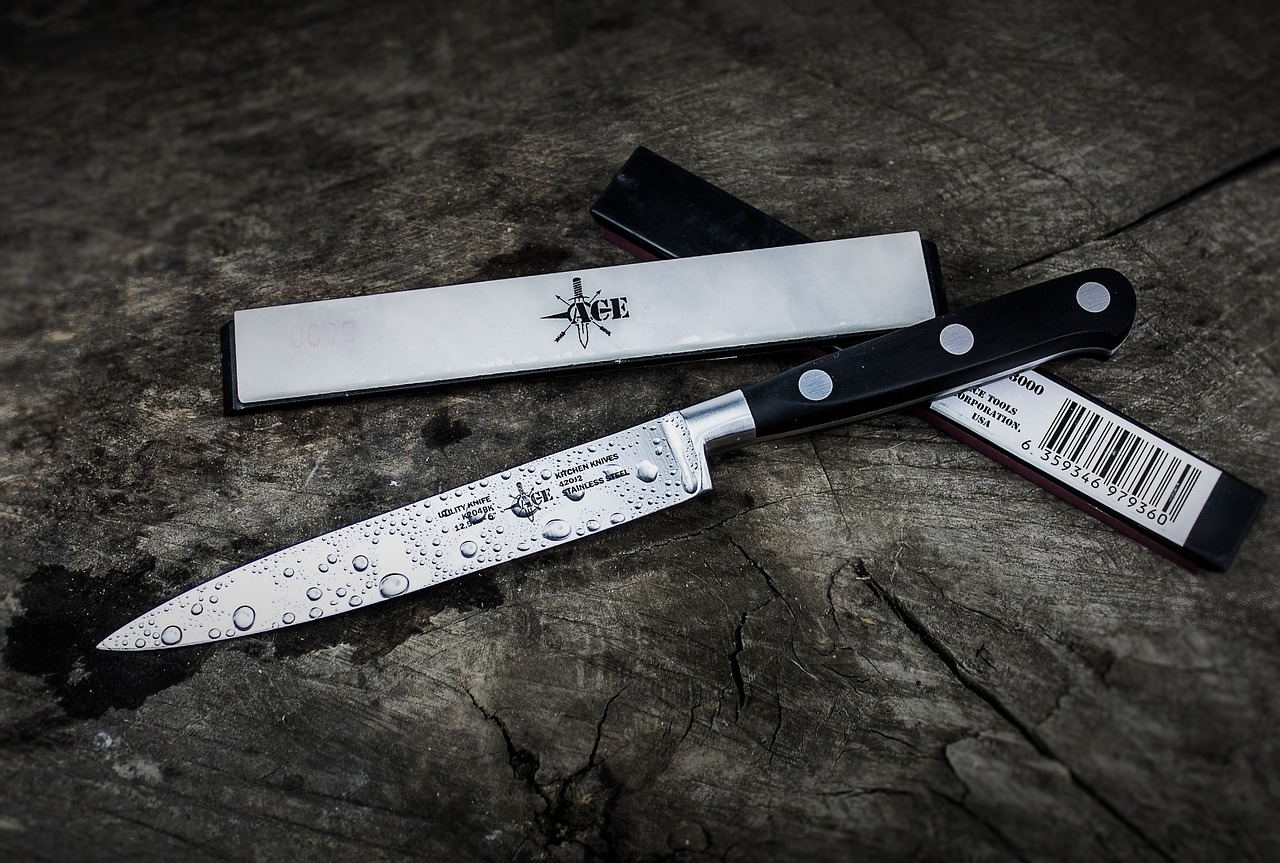knife: (92, 267, 1150, 660)
